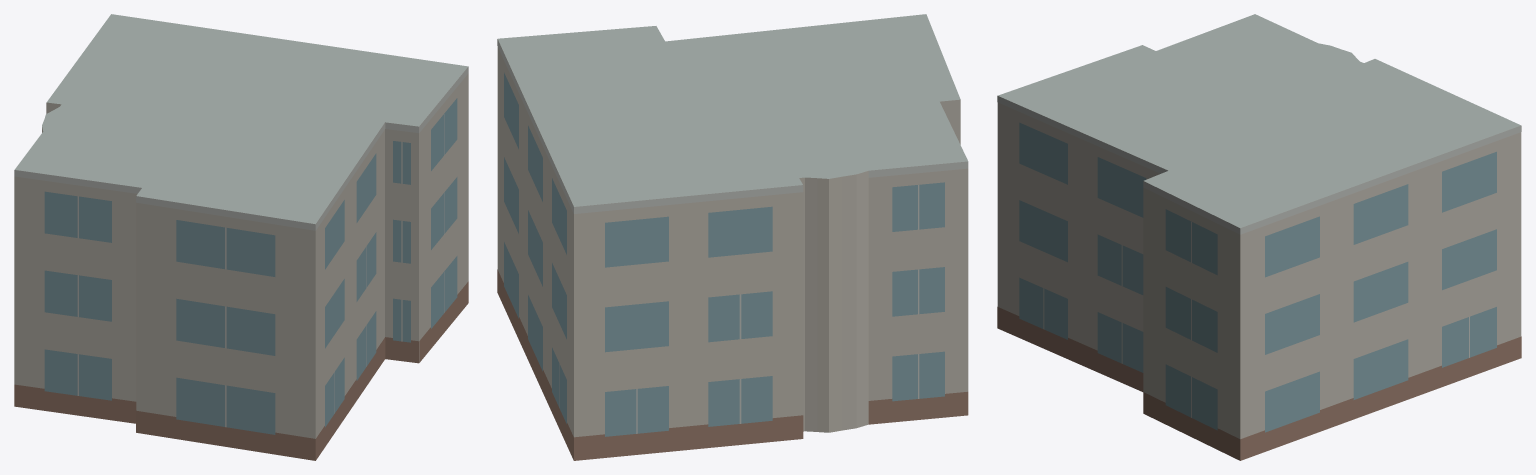
File: survey-upis-32624894.glb
The picture shows the model from 3 angles, left to right: view 1: azimuth 30°, elevation 25°; view 2: azimuth 150°, elevation 25°; view 3: azimuth 270°, elevation 25°; orthographic projection. The views are drawn at different scales.
Visible parts, largest first — view 1: survey-upis-32624894.tmp; view 2: survey-upis-32624894.tmp; view 3: survey-upis-32624894.tmp.
Boxes of the visible parts, x1,y1,x2,y2 form: survey-upis-32624894.tmp: (14, 14, 468, 460); survey-upis-32624894.tmp: (497, 14, 968, 460); survey-upis-32624894.tmp: (997, 14, 1521, 460).
Size of the model in its own units: 17.09 by 8.65 by 17.66.
